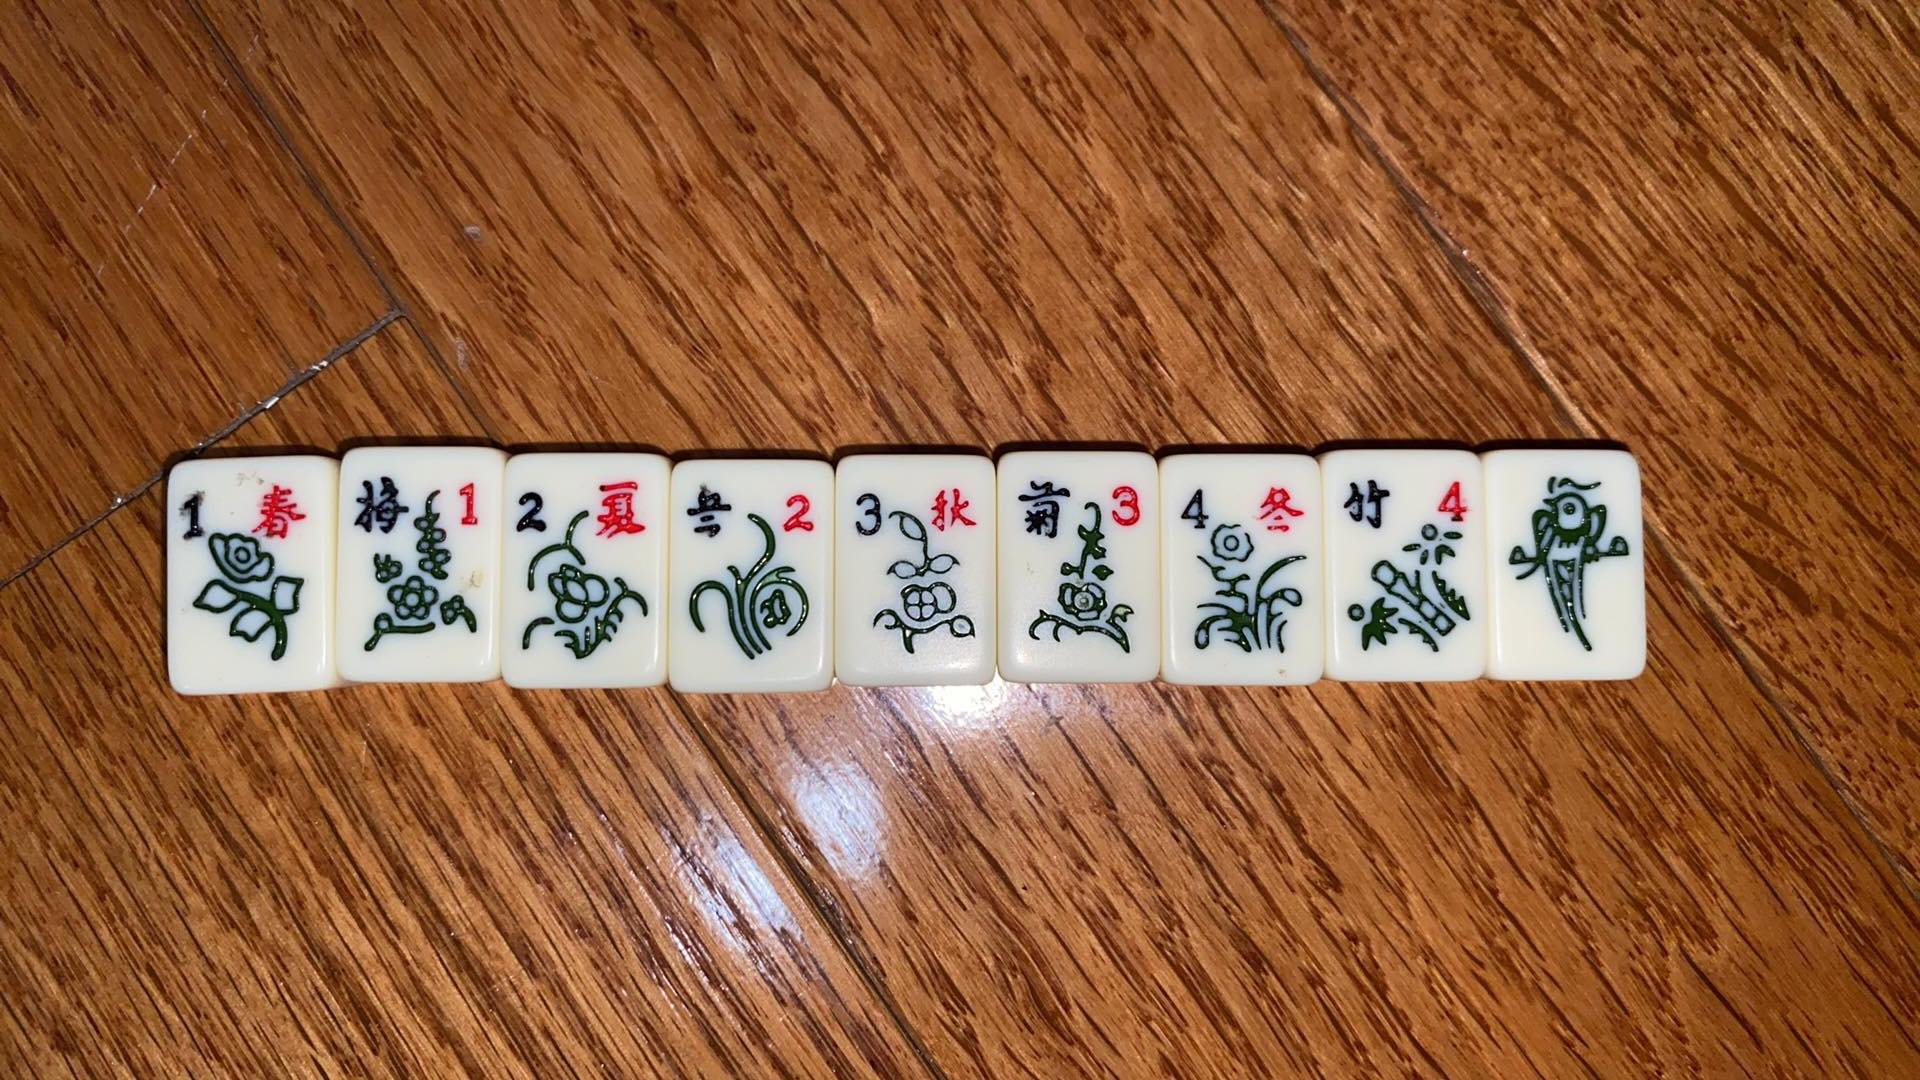bamboo-one: (1484, 452, 1647, 680)
flower-blue_four: (1321, 451, 1487, 682)
flower-blue_one: (335, 447, 505, 682)
flower-blue_three: (994, 452, 1160, 682)
flower-blue_two: (670, 460, 835, 695)
flower-red_four: (1159, 455, 1327, 684)
flower-red_one: (167, 456, 339, 695)
flower-red_three: (833, 455, 997, 687)
flower-red_two: (498, 454, 671, 688)
